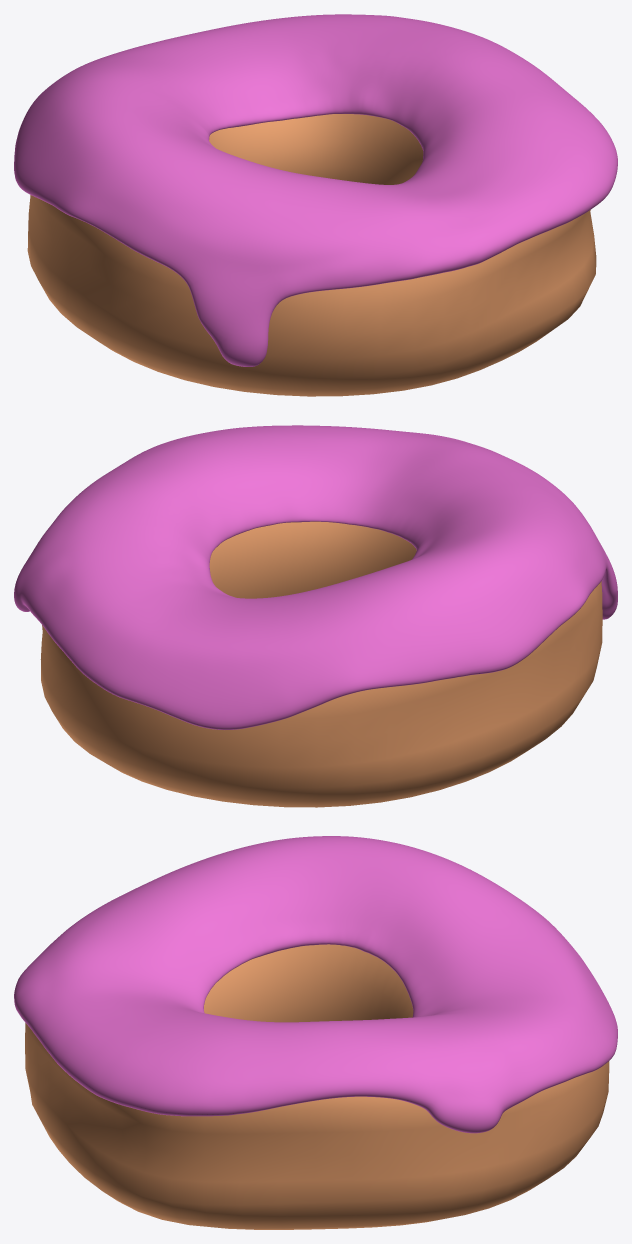
File: BasicDonut.glb
3 views of the same model, one above another, from view 1: azimuth 30°, elevation 25°; view 2: azimuth 150°, elevation 25°; view 3: azimuth 270°, elevation 25° (orthographic). The views are drawn at different scales.
Parts seen in each view (by area): view 1: Icing, Donut; view 2: Icing, Donut; view 3: Icing, Donut.
Boxes of the visible parts, x1,y1,x2,y2 form: Icing: (14,14,617,366); Donut: (27,114,596,396); Icing: (14,425,617,729); Donut: (40,521,602,807); Icing: (14,836,617,1133); Donut: (25,944,609,1229).
Size of the model in its own units: 0.1356 by 0.0586 by 0.1473.
